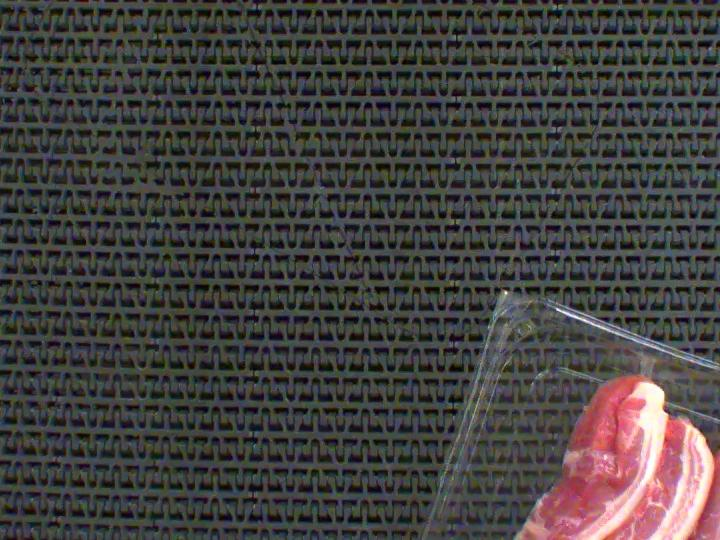packaging-error: (626, 347, 659, 386)
